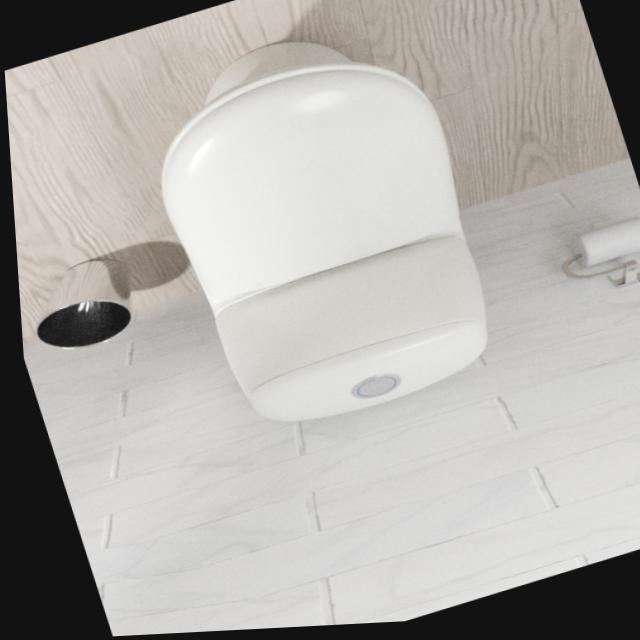toilet: (119, 4, 517, 455)
